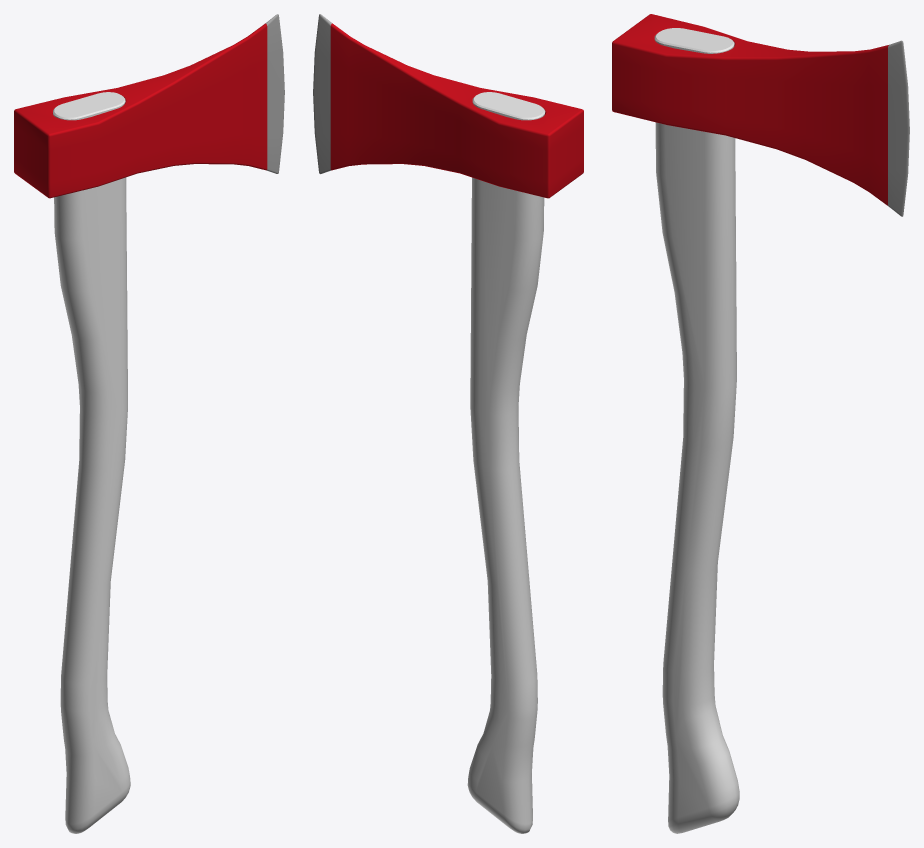
Rendered from Axe.fbx.
3 views of the same model, side by side, from view 1: azimuth 30°, elevation 25°; view 2: azimuth 150°, elevation 25°; view 3: azimuth 330°, elevation 25° (orthographic). The views are drawn at different scales.
Parts seen in each view (by area): view 1: Axe Wood, Axe; view 2: Axe Wood, Axe; view 3: Axe Wood, Axe.
Boxes of the visible parts, box(x1,y1,x2,y2) form: Axe Wood: box(53, 92, 130, 833); Axe: box(14, 14, 284, 198); Axe Wood: box(467, 92, 545, 833); Axe: box(313, 14, 583, 198); Axe Wood: box(654, 28, 739, 833); Axe: box(612, 14, 909, 216).
Bounding box in the file's own units: 40.3 × 117 × 9.79.
